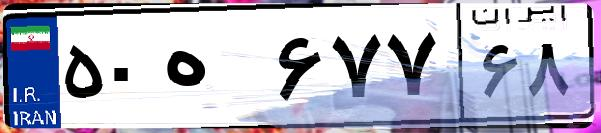0: (110, 28, 158, 98)
5: (57, 26, 110, 100)
6: (270, 28, 330, 110), (475, 38, 525, 113)
7: (385, 28, 445, 110), (330, 28, 385, 110)
8: (525, 38, 570, 115)
ه: (158, 20, 270, 120)
